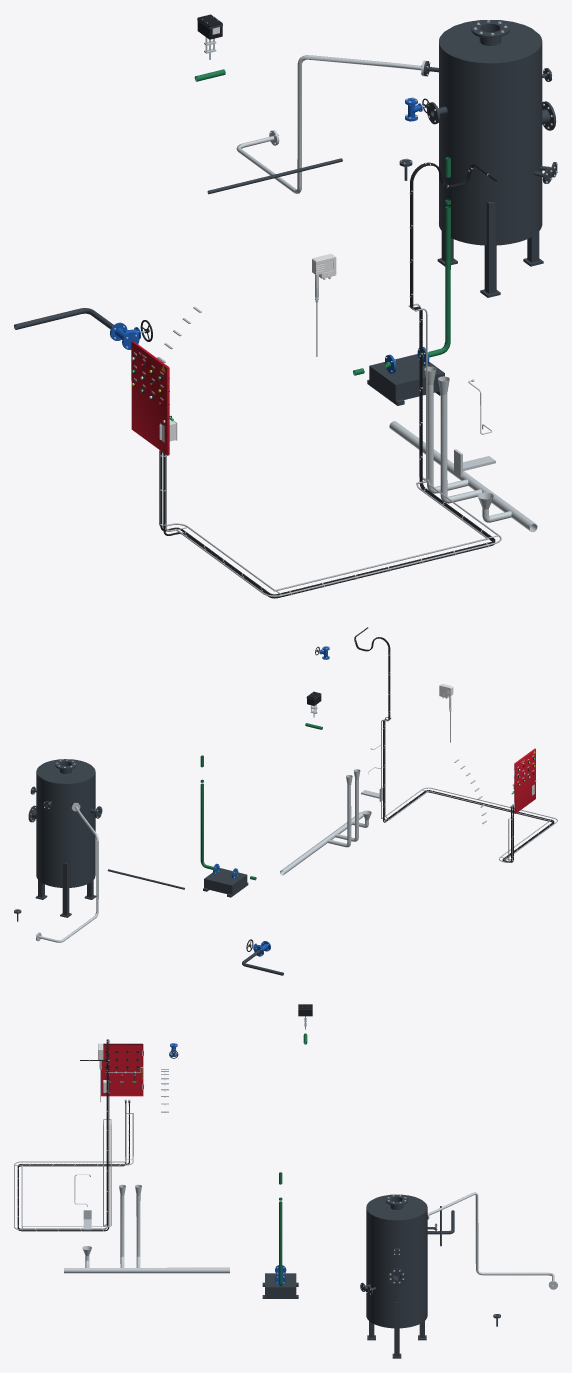
Rendered from s4000-3-l7KiVLFH.glb.
The picture shows the model from 3 angles, top to bottom: view 1: azimuth 30°, elevation 25°; view 2: azimuth 150°, elevation 25°; view 3: azimuth 270°, elevation 25°; orthographic projection. The views are drawn at different scales.
Parts seen in each view (by area): view 1: separator_bdv60_5 / dark, local_open_drains / steel, cabinet_door / cabinet_door_5.npz, cables / zinc, wiring_pressure_switch_2 / black, pump_branch_2 / dark, trap_gap_to_bdv / steel, wiring_pressure_switch_1 / black, pump_branch_2 / green, lcs600 CAD solid 0; view 2: separator_bdv60_5 / dark, local_open_drains / steel, cables / zinc, cabinet_door / cabinet_door_5.npz, pump_branch_2 / dark, wiring_pressure_switch_2 / black, wiring_pressure_switch_1 / black, trap_gap_to_bdv / steel, pump_branch_2 / green; view 3: separator_bdv60_5 / dark, cabinet_door / cabinet_door_5.npz, local_open_drains / steel, cables / zinc, trap_gap_to_bdv / steel, wiring_pressure_switch_1 / black, wiring_pressure_switch_2 / black, pump_branch_2 / dark.
Boxes of the visible parts, x1,y1,x2,y2 form: separator_bdv60_5 / dark: [423, 20, 557, 297]; local_open_drains / steel: [389, 366, 537, 532]; cabinet_door / cabinet_door_5.npz: [131, 341, 169, 455]; cables / zinc: [159, 303, 501, 596]; wiring_pressure_switch_2 / black: [160, 163, 495, 595]; pump_branch_2 / dark: [367, 354, 444, 405]; trap_gap_to_bdv / steel: [236, 55, 426, 193]; wiring_pressure_switch_1 / black: [163, 162, 496, 598]; pump_branch_2 / green: [353, 157, 450, 375]; lcs600 CAD solid 0: [312, 253, 336, 356]; separator_bdv60_5 / dark: [28, 759, 102, 917]; local_open_drains / steel: [280, 769, 371, 875]; cables / zinc: [381, 717, 557, 862]; cabinet_door / cabinet_door_5.npz: [514, 748, 536, 813]; pump_branch_2 / dark: [203, 868, 248, 897]; wiring_pressure_switch_2 / black: [355, 634, 554, 862]; wiring_pressure_switch_1 / black: [354, 627, 554, 862]; trap_gap_to_bdv / steel: [36, 803, 98, 942]; pump_branch_2 / green: [200, 755, 256, 880]; separator_bdv60_5 / dark: [360, 1194, 436, 1358]; cabinet_door / cabinet_door_5.npz: [101, 1043, 143, 1096]; local_open_drains / steel: [64, 1184, 229, 1273]; cables / zinc: [14, 1113, 133, 1230]; trap_gap_to_bdv / steel: [427, 1192, 557, 1289]; wiring_pressure_switch_1 / black: [17, 1039, 126, 1231]; wiring_pressure_switch_2 / black: [17, 1039, 129, 1229]; pump_branch_2 / dark: [262, 1273, 298, 1298].
Size of the model in its own units: 5.43 by 3.24 by 6.78.
